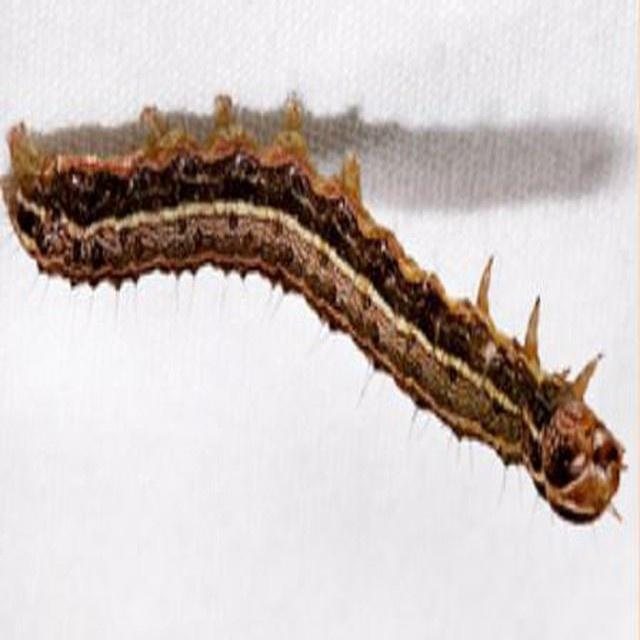worm: (1, 89, 629, 528)
